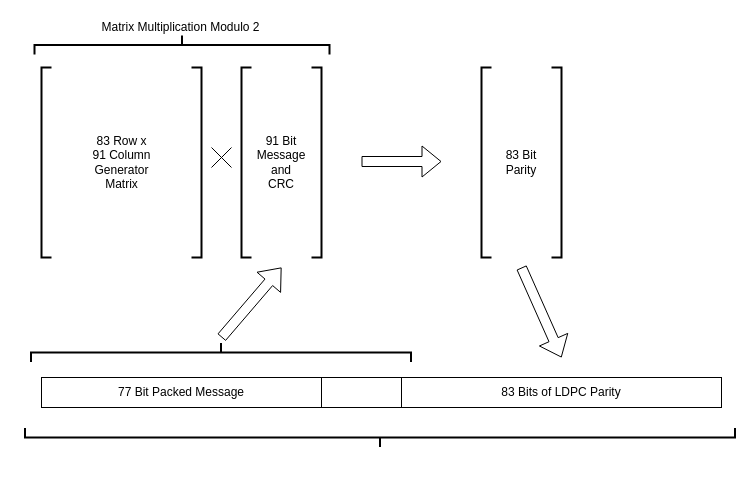
Image size: 753x484. Some labels were removed from this diagram. Here are the shapes that lost their labels. From the top down, the centre of each, then its label:
[361,392]: 14 Bit CRC
[380,437]: 174 Bit LDPC Codeword
